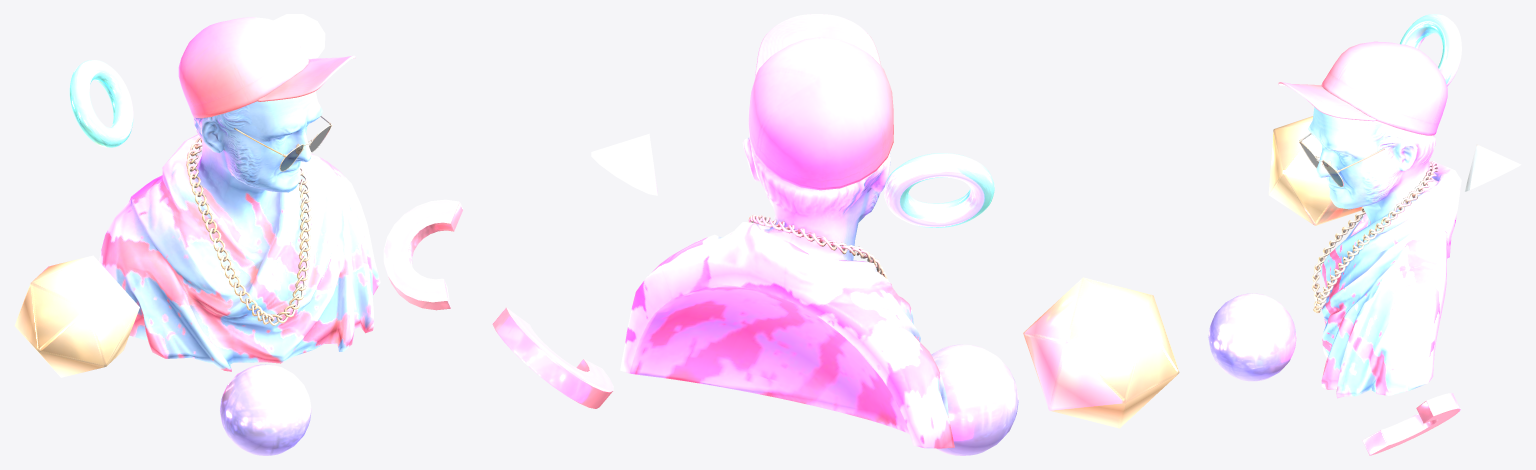
The model's file is Statue_Export.gltf.
3 renders of one model, left to right at view 1: azimuth 30°, elevation 25°; view 2: azimuth 150°, elevation 25°; view 3: azimuth 270°, elevation 25°, orthographic. The views are drawn at different scales.
Visible parts, largest first — view 1: Statue.001, Icosphere.001, Sphere.001, Cylinder.001, Torus.004, Cone.001; view 2: Statue.001, Icosphere.001, Sphere.001, Torus.004, Cylinder.001, Cone.001; view 3: Statue.001, Sphere.001, Icosphere.001, Cylinder.001, Torus.004, Cone.001.
Boxes of the visible parts, x1,y1,x2,y2 form: Statue.001: (99,17,380,371); Icosphere.001: (14,255,139,377); Sphere.001: (220,364,311,455); Cylinder.001: (383,199,463,310); Torus.004: (69,60,133,147); Cone.001: (273,14,325,58); Statue.001: (620,14,954,448); Icosphere.001: (1023,277,1179,428); Sphere.001: (931,344,1018,455); Torus.004: (884,153,994,227); Cylinder.001: (492,307,613,408); Cone.001: (591,133,657,195); Statue.001: (1278,41,1461,398); Sphere.001: (1208,293,1296,381); Icosphere.001: (1268,116,1362,225); Cylinder.001: (1362,393,1460,455); Torus.004: (1400,14,1461,86); Cone.001: (1464,144,1521,191).
Bounding box in the file's own units: 1.28 × 0.9124 × 0.7319.
